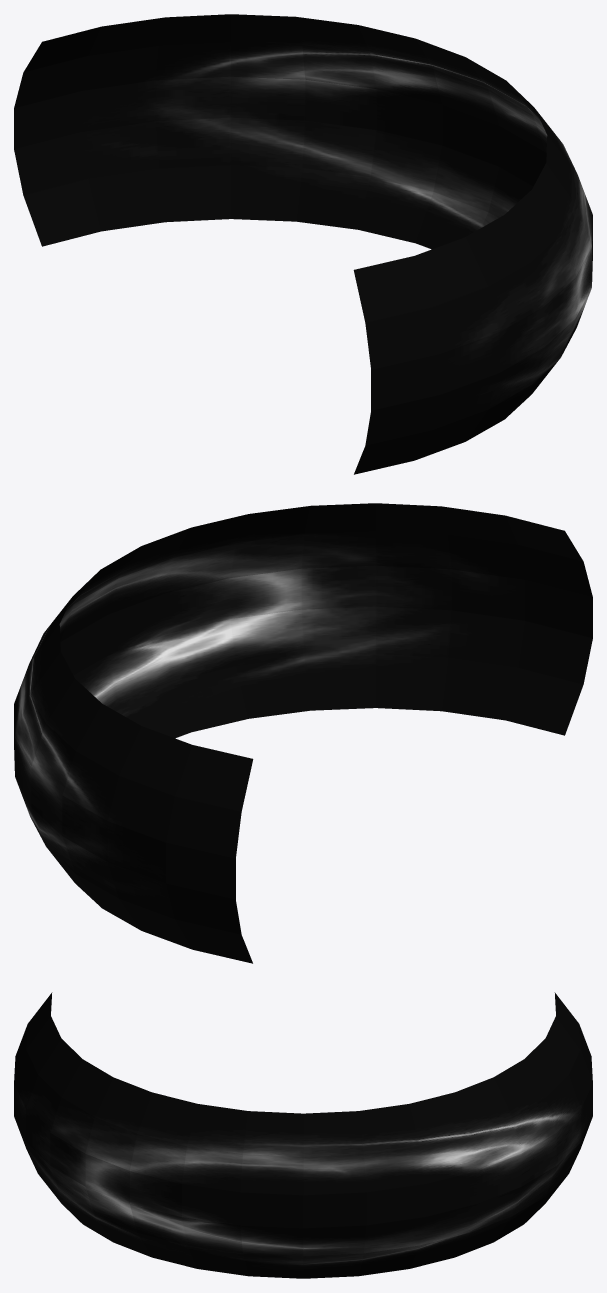
File: 0210_banhuan.glb
3 views of the same model, one above another, from view 1: azimuth 30°, elevation 25°; view 2: azimuth 150°, elevation 25°; view 3: azimuth 270°, elevation 25° (orthographic). The views are drawn at different scales.
Bounding box in the file's own units: 1.25 × 0.6927 × 2.2.
Materials: 1 (1 with a texture image).
